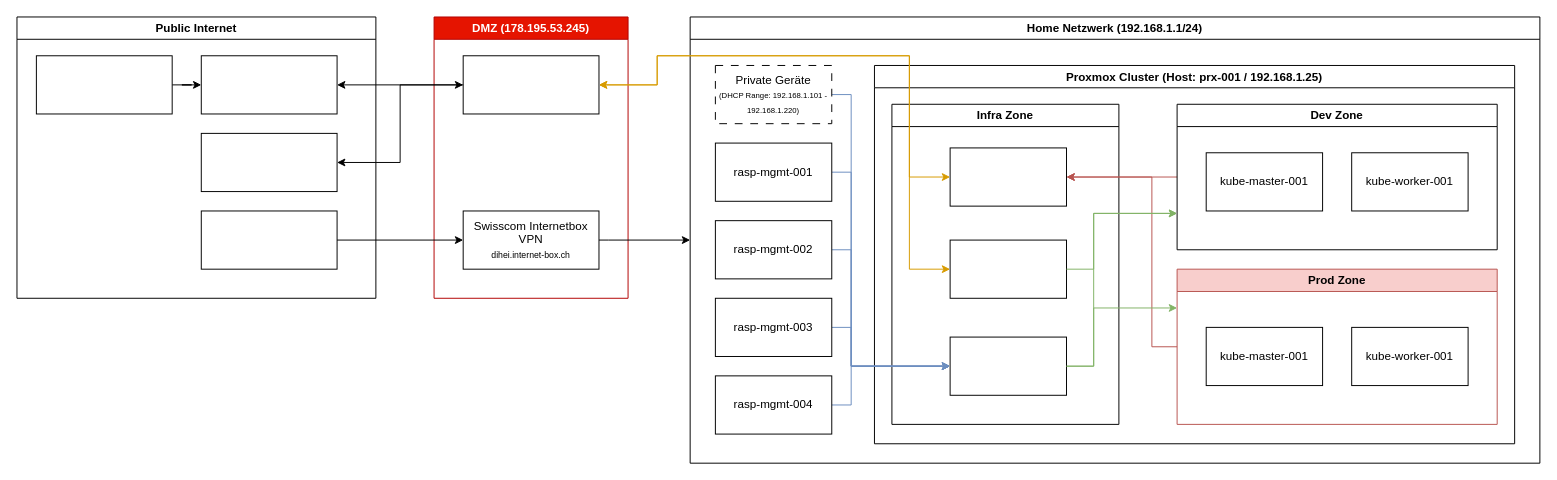
Some shapes in this 1557 by 480 pixel diagram are drawn without their labels. The centre of each missing label's shape, as x and y in pixels:
Cloudflare Tunnel Services: pixel 268 84
GitHub Services: pixel 268 162
jump-001: pixel 1008 365
mgmt-001: pixel 1008 268
proxy-001: pixel 1008 176
Service Client: pixel 103 84
Swisscom Internetbox Router: pixel 530 84
VPN Client: pixel 268 239
